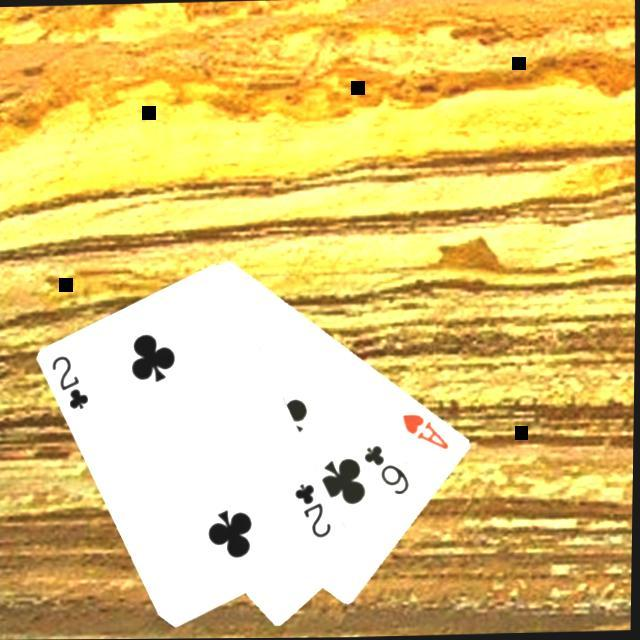2C: (290, 478, 336, 540), (47, 349, 92, 412)
6C: (359, 439, 413, 496)
AH: (397, 408, 453, 452)
